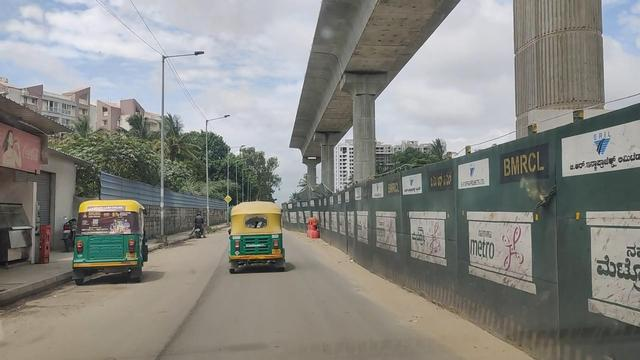LMV: (70, 195, 149, 284), (223, 198, 290, 280)
